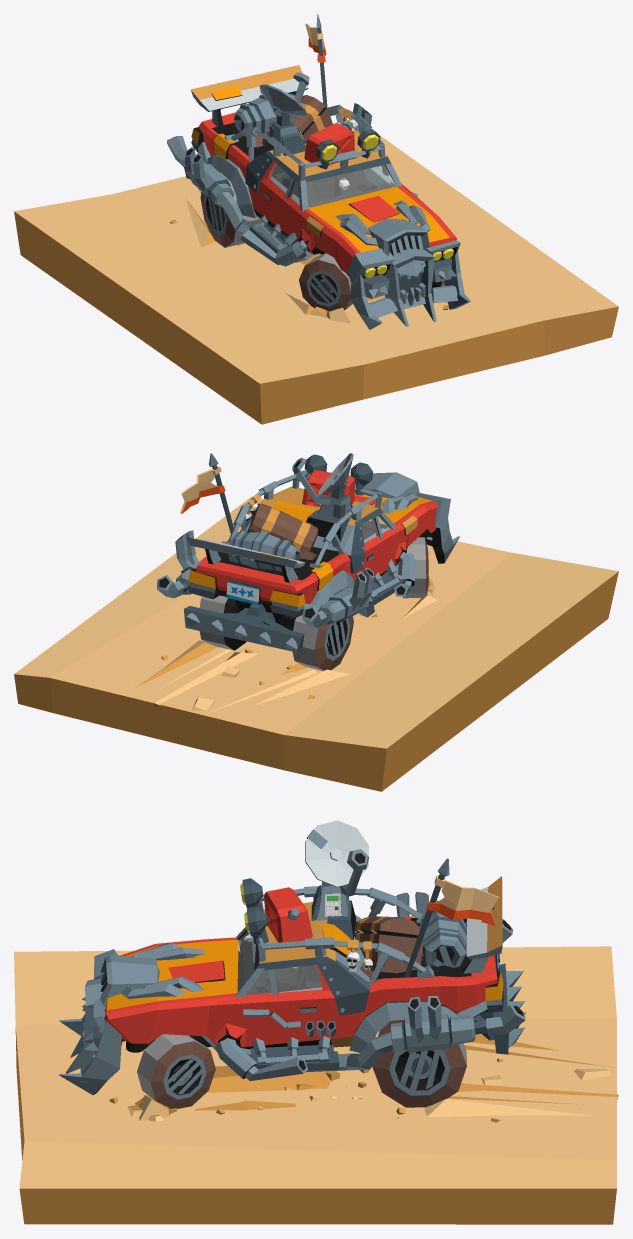
Rendered from Giga Pig Ultimate.glb.
The picture shows the model from 3 angles, top to bottom: view 1: azimuth 30°, elevation 25°; view 2: azimuth 150°, elevation 25°; view 3: azimuth 270°, elevation 25°; orthographic projection. The views are drawn at different scales.
Visible parts, largest first — view 1: group478977601, group209116886, group377548882, group1644948134, group1740004949, group1645430239, group1410390311, group1382686687, group2120335766, group419697253, group723724044, group2131204993 (+6 smaller); view 2: group478977601, group209116886, group970231681, group1382686687, group1740004949, group1644948134, group1725151293, group723724044, group1645430239, group707405803, group1838268374, group377548882 (+19 smaller); view 3: group478977601, group209116886, group1838268374, group102458130, group951975016, group377548882, group1644948134, group637238646, group707405803, group1725151293, group723724044, group1645430239 (+17 smaller).
Boxes of the visible parts, x1,y1,x2,y2 form: group478977601: (14,135,618,424); group209116886: (199,112,457,274); group377548882: (347,240,470,329); group1644948134: (245,130,390,193); group1740004949: (167,136,313,262); group1645430239: (190,65,308,127); group1410390311: (299,253,352,311); group1382686687: (200,172,260,247); group2120335766: (368,219,429,255); group419697253: (304,120,354,168); group723724044: (234,93,295,132); group2131204993: (207,155,257,218); group478977601: (14,496,618,791); group209116886: (196,492,436,603); group970231681: (184,603,304,652); group1382686687: (292,615,353,671); group1740004949: (302,562,398,627); group1644948134: (240,486,382,573); group1725151293: (247,503,318,552); group723724044: (228,530,299,571); group1645430239: (186,537,305,582); group707405803: (180,453,234,533); group1838268374: (157,530,202,598); group377548882: (416,493,459,563); group478977601: (14,946,616,1224); group209116886: (104,916,497,1049); group1838268374: (241,996,525,1072); group102458130: (372,1020,466,1107); group951975016: (137,1034,215,1109); group377548882: (58,949,124,1094); group1644948134: (254,902,370,1015); group637238646: (305,820,368,887); group707405803: (404,858,499,977); group1725151293: (354,916,423,973); group723724044: (419,911,466,967); group1645430239: (463,876,502,973).
Size of the model in its own units: 4.52 by 2.72 by 5.11.
